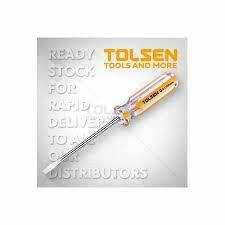screwdriver: (42, 68, 177, 173)
